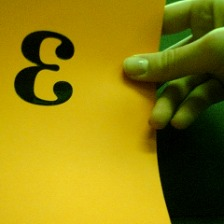orange3: (9, 25, 79, 113)
